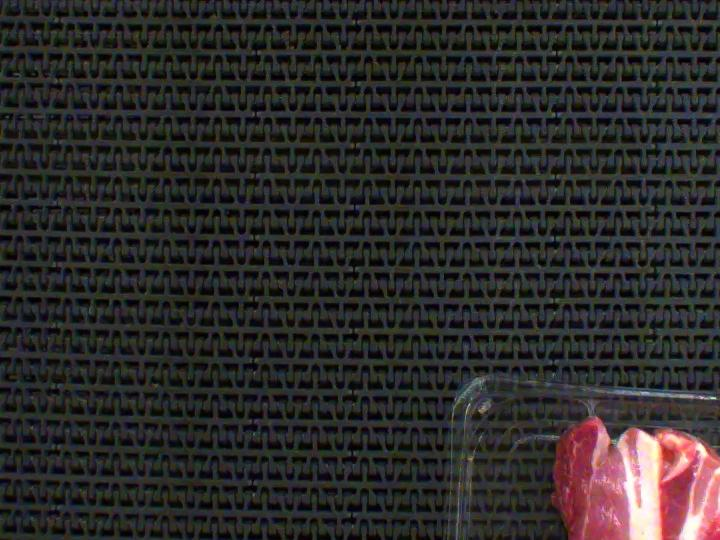packaging-error: (577, 392, 604, 421)
